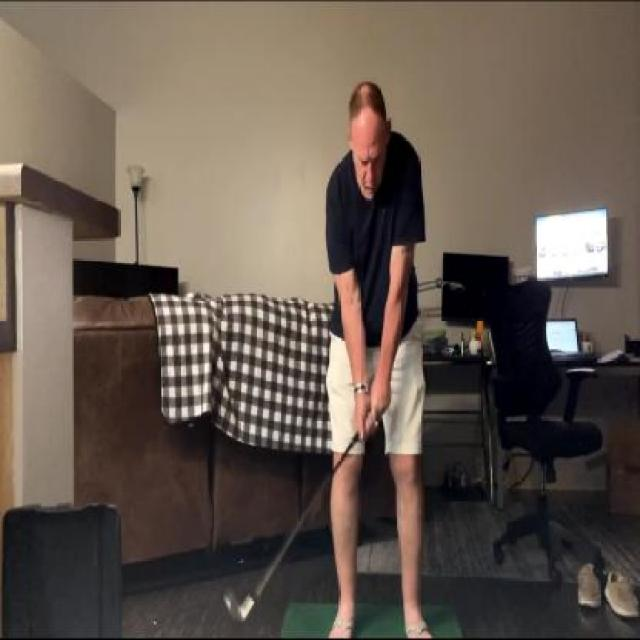club head: (222, 584, 260, 627)
